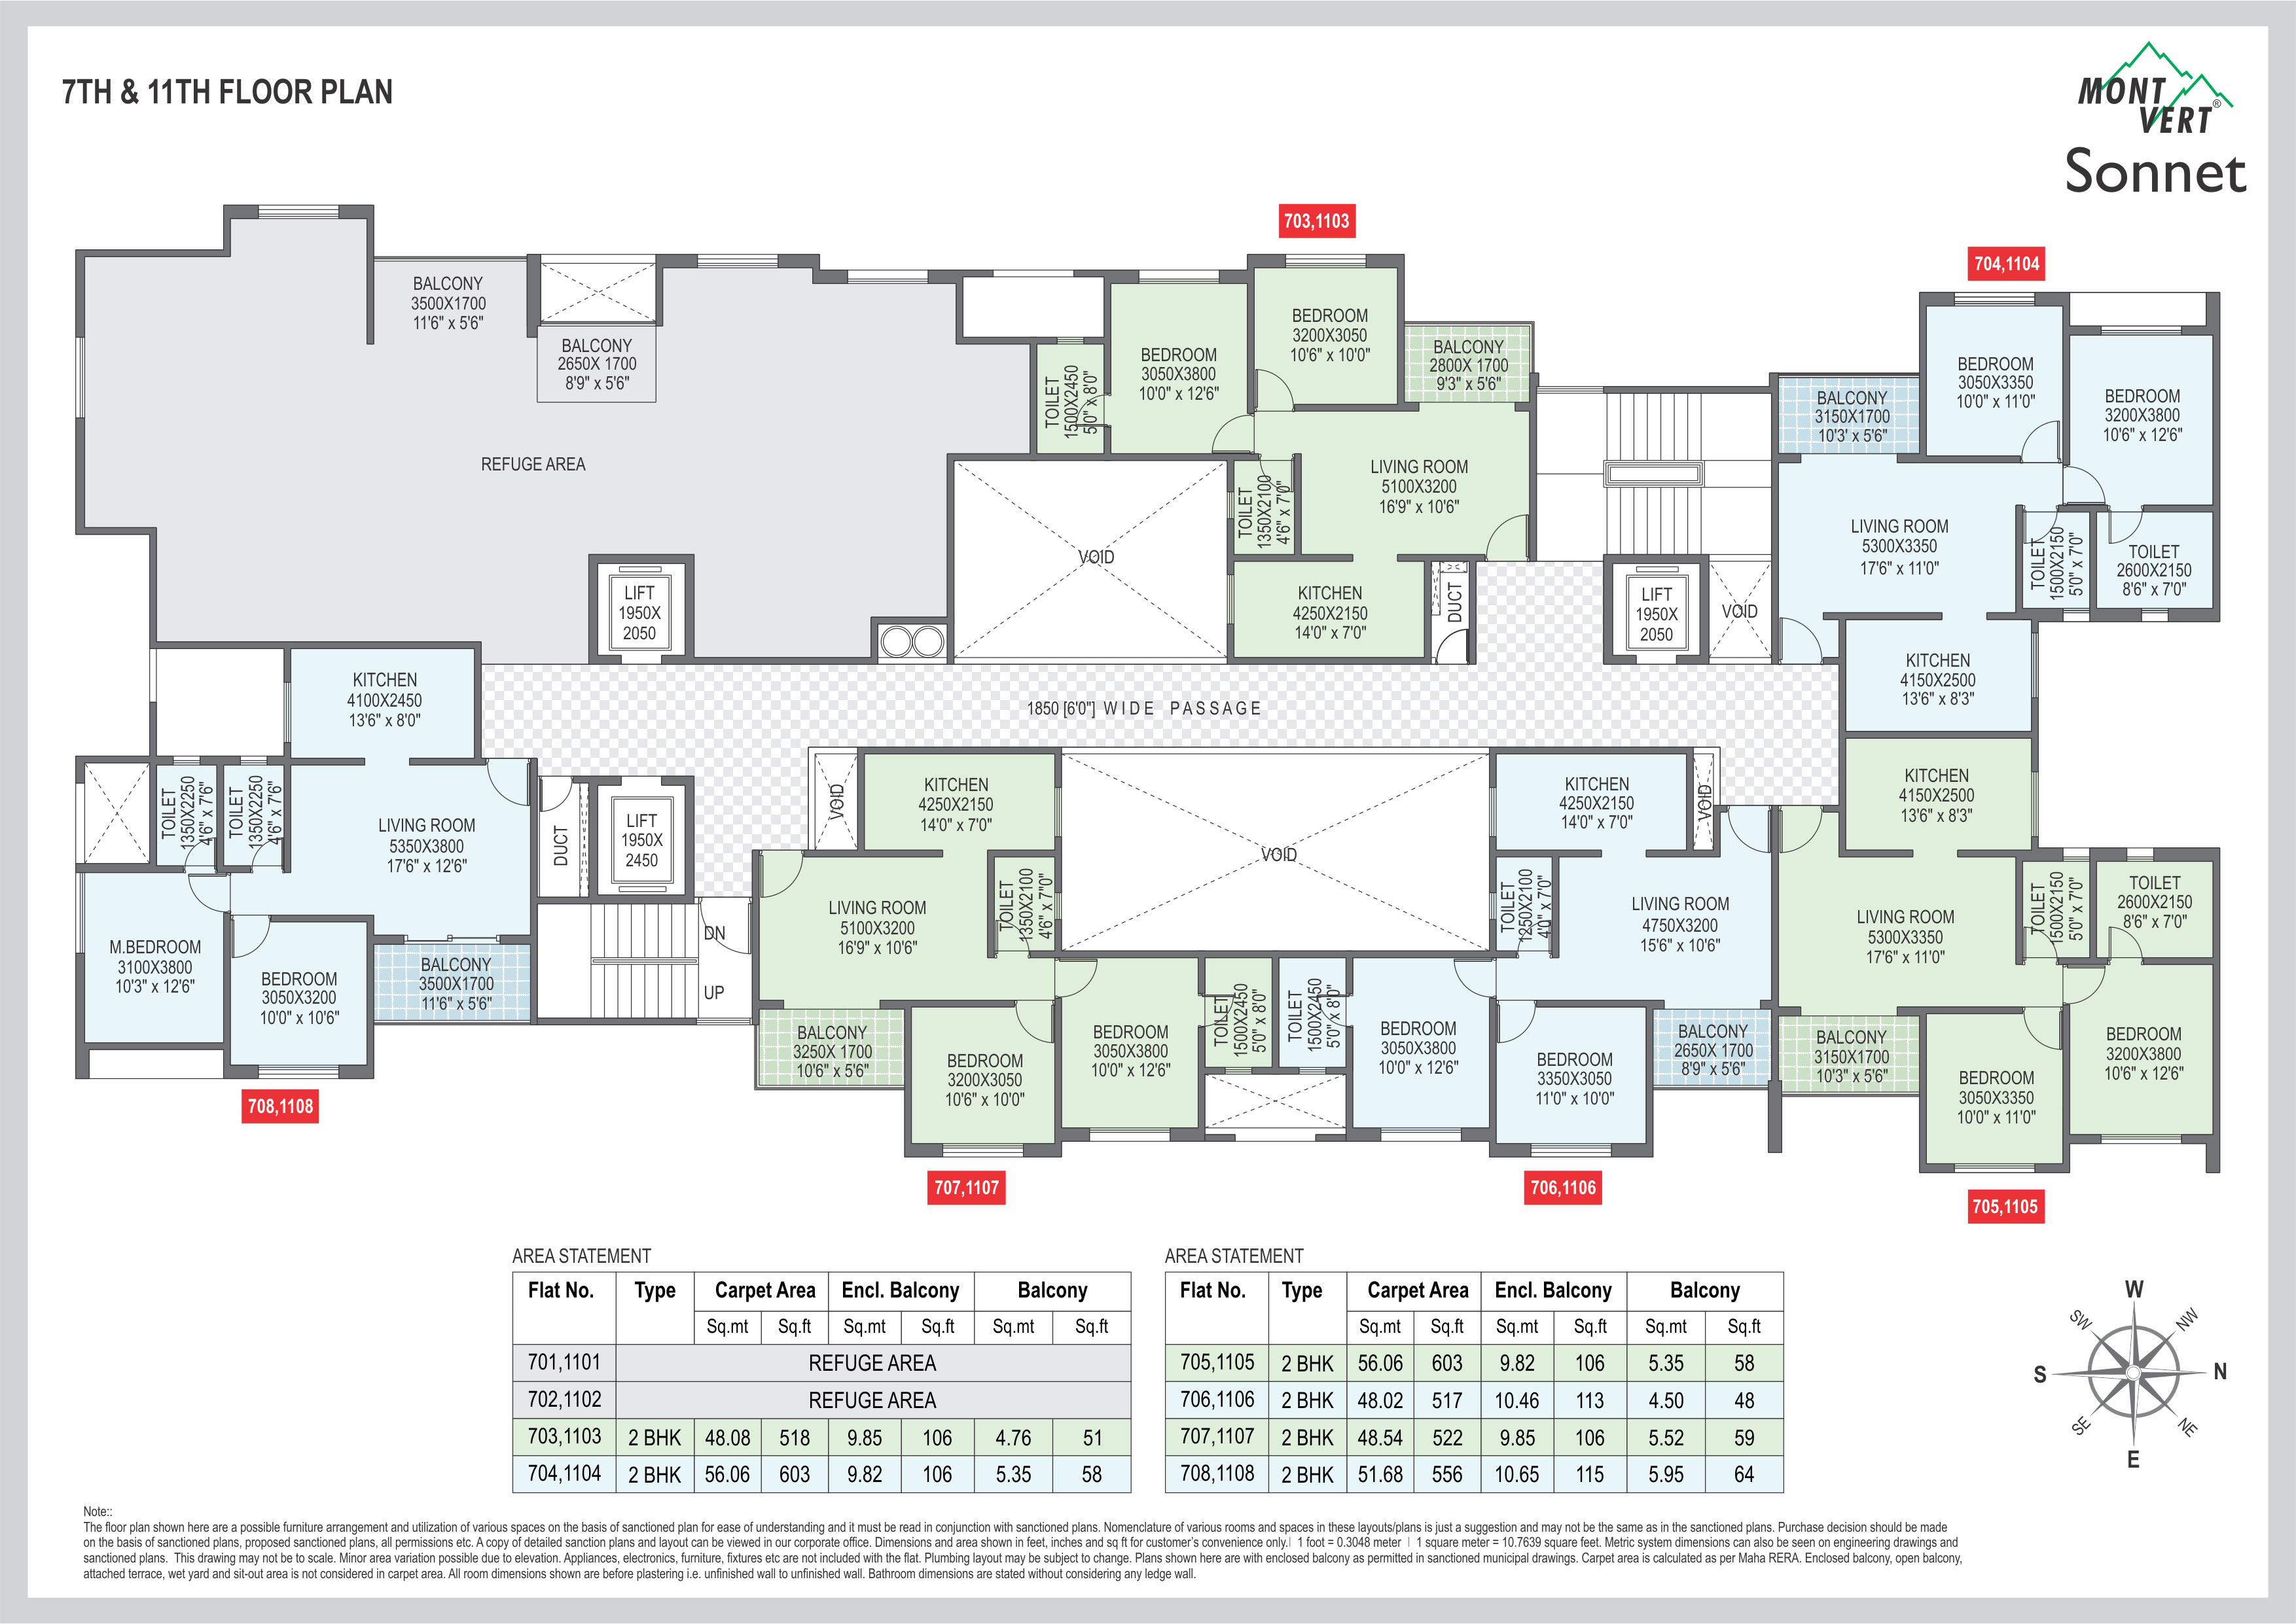window: (253, 202, 343, 223), (693, 250, 782, 271), (844, 267, 934, 288), (1134, 265, 1224, 286), (1278, 251, 1368, 272), (1946, 290, 2036, 311), (2094, 322, 2183, 343), (1085, 1125, 1174, 1144), (255, 1062, 345, 1081), (1378, 1125, 1466, 1144), (939, 1141, 1027, 1160), (72, 870, 88, 961), (2097, 1132, 2187, 1148), (1950, 1160, 2038, 1176), (1528, 1142, 1614, 1156), (2029, 629, 2041, 705), (2029, 766, 2041, 842), (281, 680, 294, 745), (2138, 605, 2168, 626), (2060, 845, 2090, 866), (171, 752, 206, 770), (236, 752, 271, 770), (2060, 606, 2092, 626), (2124, 845, 2155, 865)
